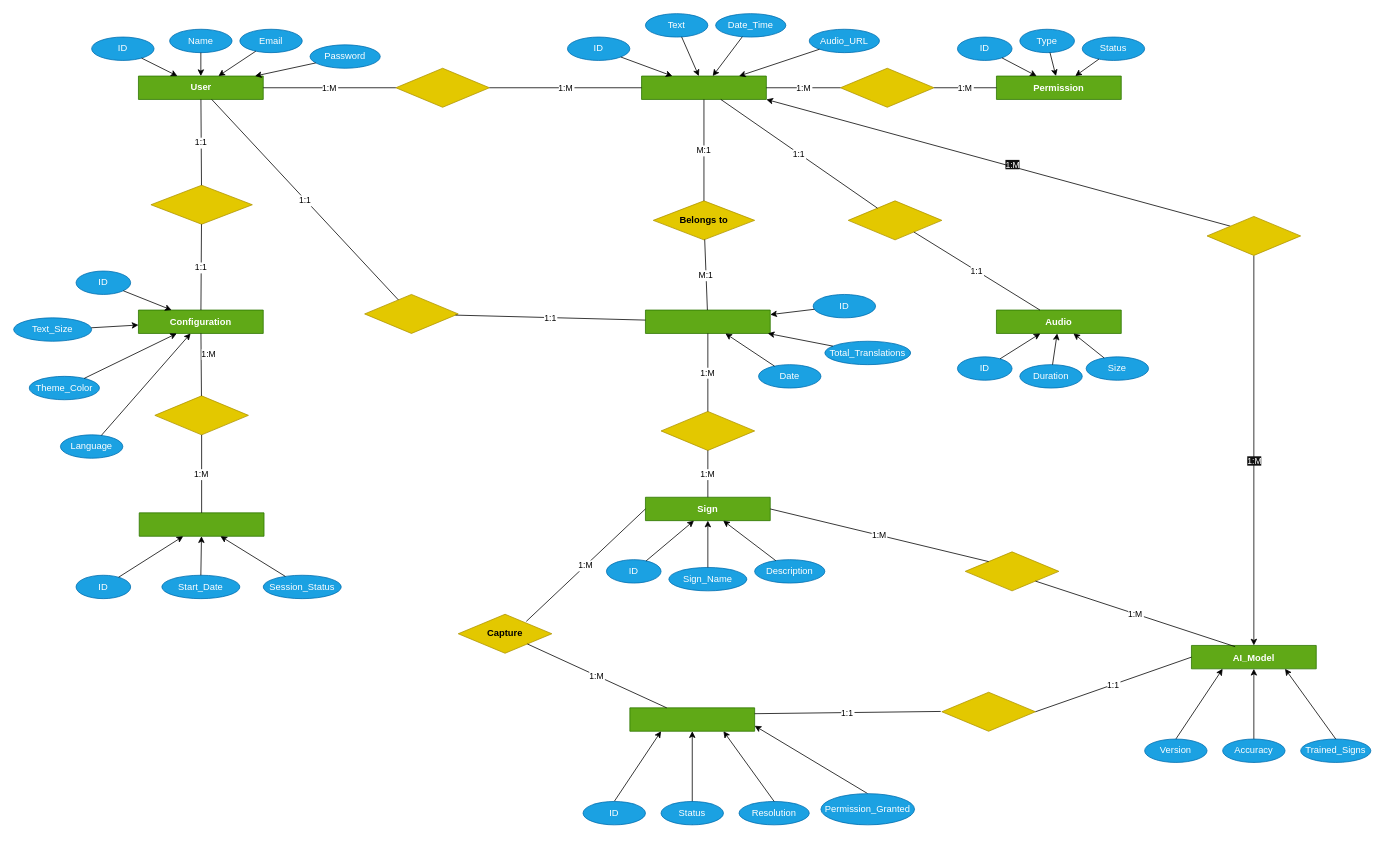
This 1385x845 diagram has some shape labels left out. The shapes that lost their labels are listed below. From the top down, each one's centre as x and y in pixels, then its label:
the point at 442,87: Realize
the point at 703,87: Translation
the point at 887,87: Manage
the point at 201,204: Customize
the point at 894,220: Generate
the point at 1253,235: Produces
the point at 411,313: Have
the point at 707,321: Translation_history
the point at 201,415: Begin
the point at 707,430: Recognize
the point at 201,524: Sesion
the point at 1011,571: Detect
the point at 692,719: Camara
the point at 988,711: Feed
